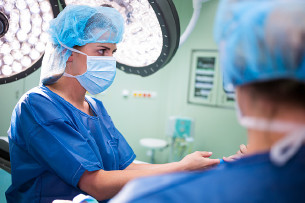face_mask: (74, 32, 117, 93)
